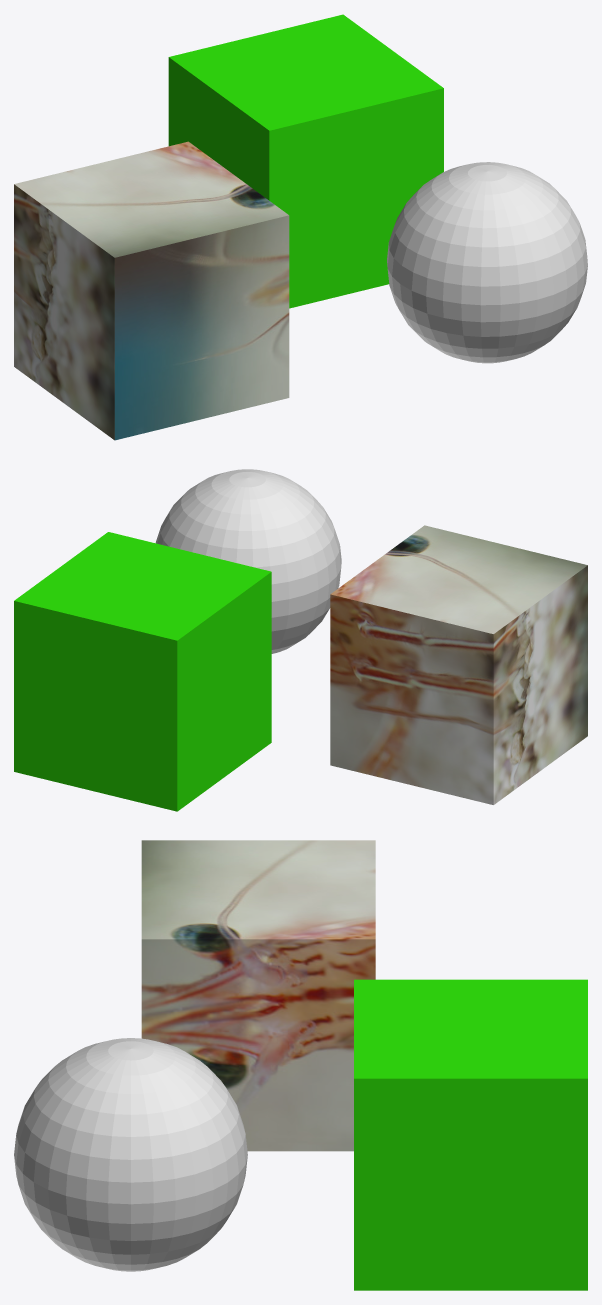
The picture shows the model from 3 angles, top to bottom: view 1: azimuth 30°, elevation 25°; view 2: azimuth 150°, elevation 25°; view 3: azimuth 270°, elevation 25°; orthographic projection. The views are drawn at different scales.
Visible parts, largest first — view 1: Cube.001, Cube, Sphere; view 2: Cube, Cube.001, Sphere; view 3: Cube, Cube.001, Sphere.
Part boxes in pixels (x1,y1,x2,y2): Cube.001: [14, 141, 289, 440]; Cube: [168, 14, 443, 308]; Sphere: [387, 162, 587, 363]; Cube: [14, 532, 271, 811]; Cube.001: [330, 525, 587, 804]; Sphere: [155, 469, 341, 653]; Cube: [354, 979, 587, 1290]; Cube.001: [141, 840, 375, 1151]; Sphere: [14, 1038, 247, 1271].
Size of the model in its own units: 5.22 by 2 by 4.91.
2 materials, 1 textured.
